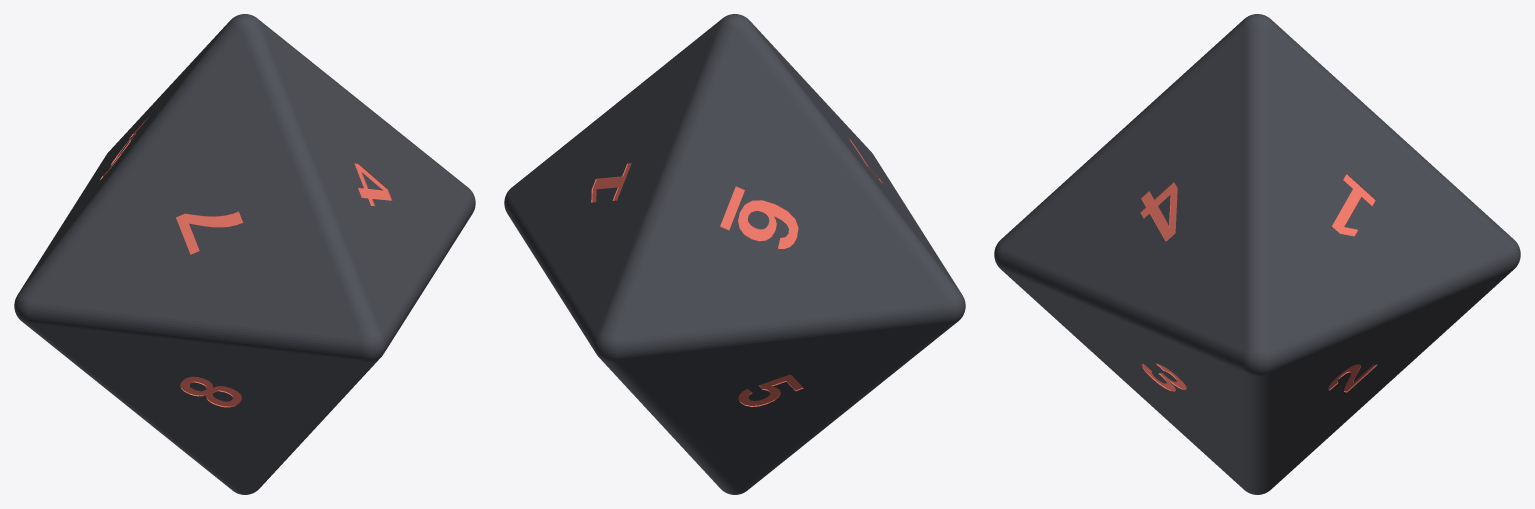
3 renders of one model, left to right at view 1: azimuth 30°, elevation 25°; view 2: azimuth 150°, elevation 25°; view 3: azimuth 270°, elevation 25°, orthographic.
Parts seen in each view (by area): view 1: d8; view 2: d8; view 3: d8.
Boxes of the visible parts, left/top/right/bottom form: d8: left=14, top=14, right=475, bottom=494; d8: left=504, top=14, right=965, bottom=494; d8: left=994, top=14, right=1520, bottom=494.
Bounding box in the file's own units: 26.24 × 26.24 × 26.24.
